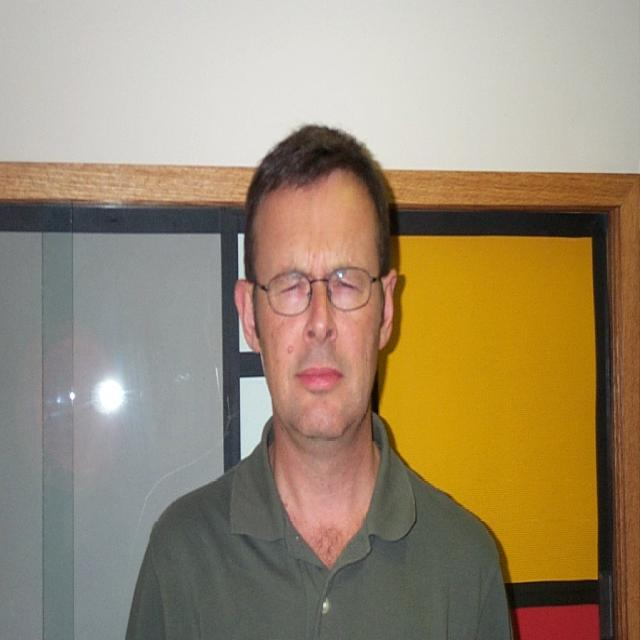Eyeclosed: (334, 272, 360, 300), (280, 277, 301, 302)
